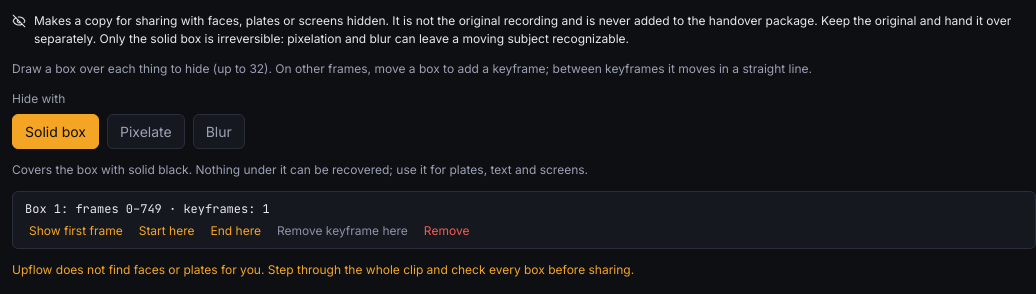
Scenario: RedactionPanel › offers the solid box by default, then pixelate and blur with a warning that they can be reversed
Check: the text "Covers the box with solid black. Nothing under it can be recovered; use it for plates, text and screens." is shown, box [12,162,588,177]
Step 1. Click the radio button labelled "Blur" → [219, 132], box [193,114,245,149]
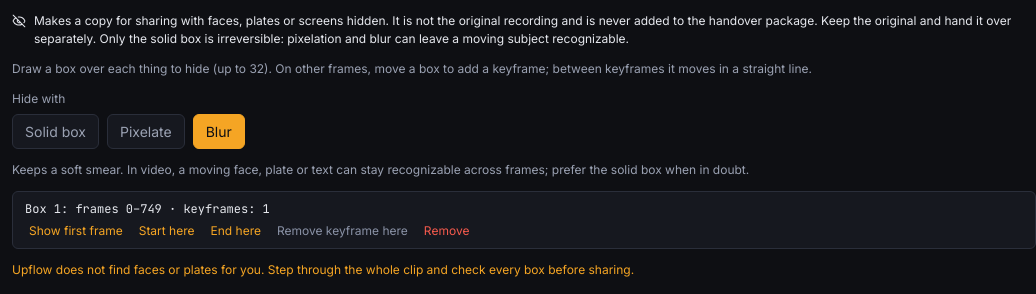
Check: the text "Keeps a soft smear. In video, a moving face, plate or text can stay recognizable across frames; prefer the solid box whe" is shown, box [12,162,749,177]
